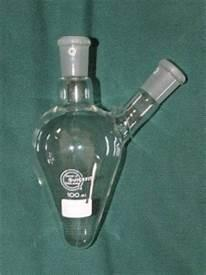Pear shaped flask: (28, 26, 189, 251)
